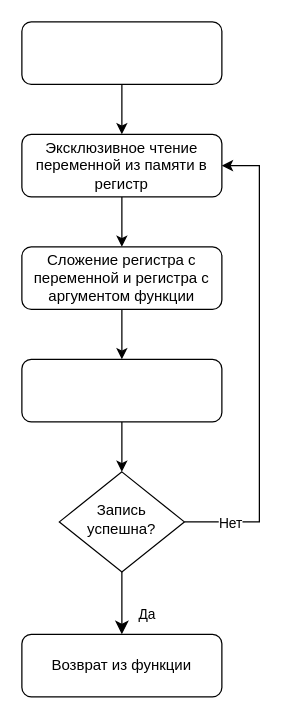
Image size: 291x719. Some labels were removed from this diagram. Here are the shapes that lost their labels. From the top down, the centre of each, then its label:
At (121,52): "Вход в функцию".
At (121,390): "Эксклюзивная запись результата в память".
